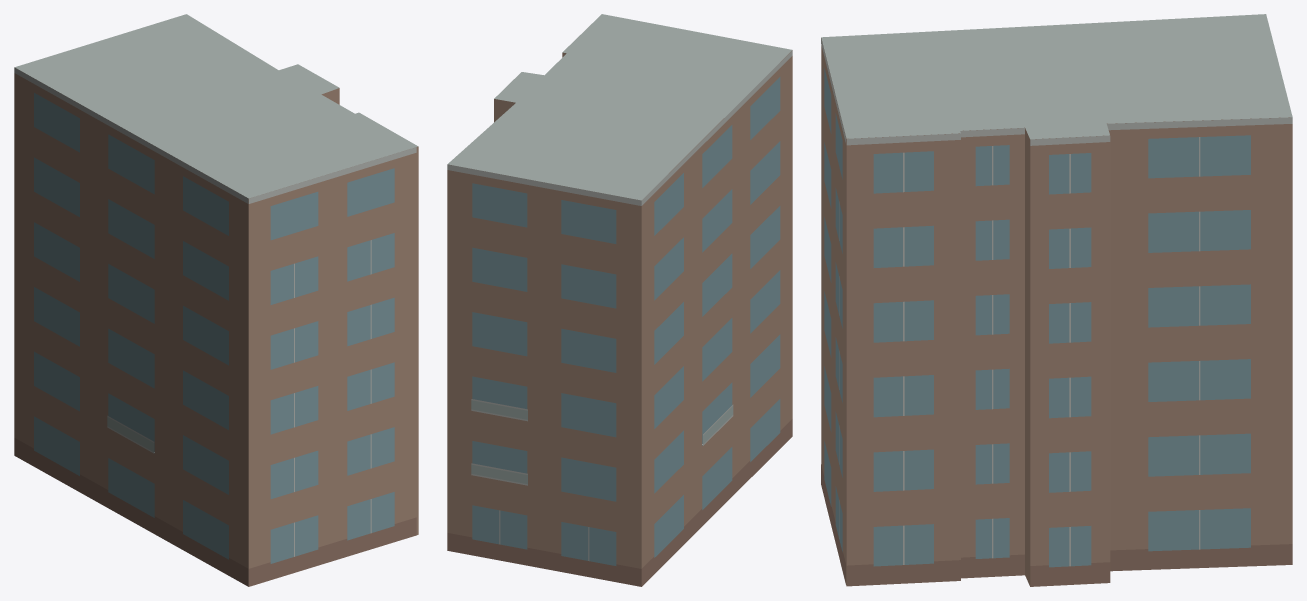
File: survey-upis-32887508.glb
3 renders of one model, left to right at view 1: azimuth 30°, elevation 25°; view 2: azimuth 150°, elevation 25°; view 3: azimuth 270°, elevation 25°, orthographic. The views are drawn at different scales.
Parts seen in each view (by area): view 1: survey-upis-32887508.tmp; view 2: survey-upis-32887508.tmp; view 3: survey-upis-32887508.tmp.
Boxes of the visible parts, <box> form: survey-upis-32887508.tmp: <box>14,14,418,586</box>; survey-upis-32887508.tmp: <box>447,14,792,586</box>; survey-upis-32887508.tmp: <box>821,14,1292,586</box>.
Bounding box in the file's own units: 10.04 × 16.7 × 15.96.
